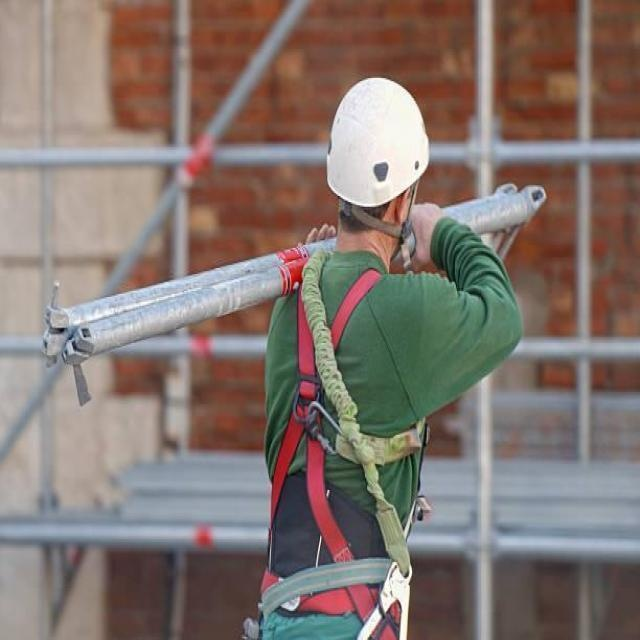Arnes_seguridad: (261, 251, 420, 640)
